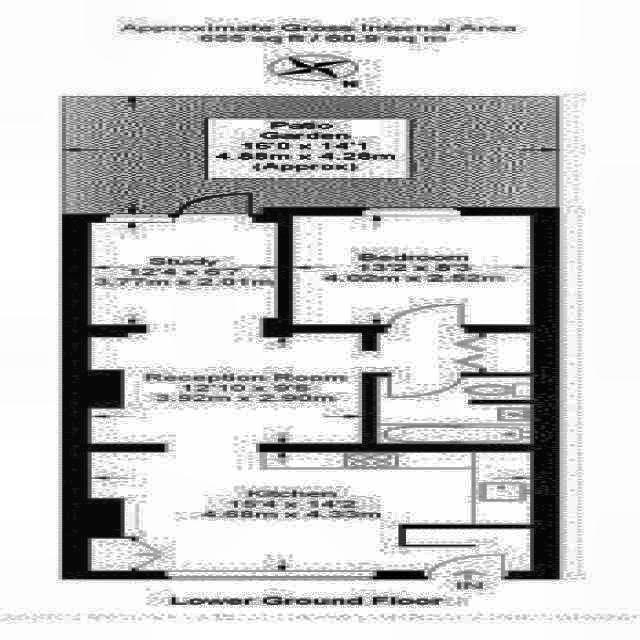room: (90, 333, 530, 571), (293, 216, 531, 325), (92, 223, 279, 324), (377, 377, 529, 443)
